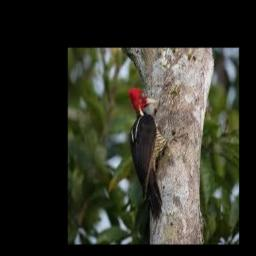Woodpecker: (128, 87, 186, 220)
